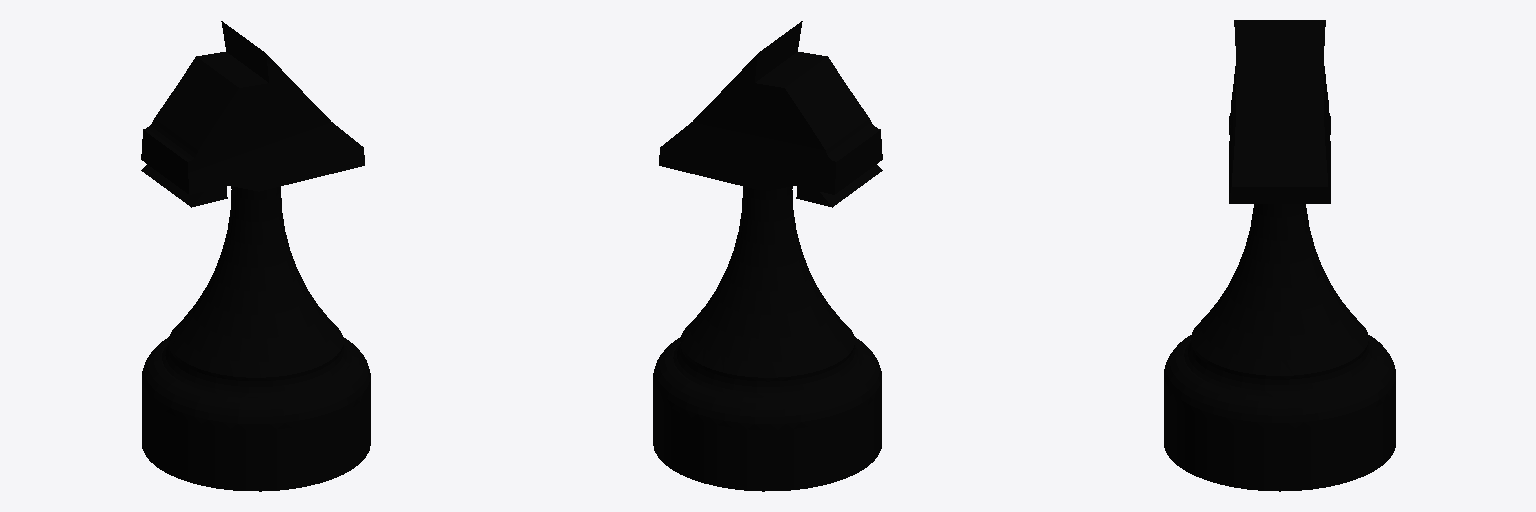
robot.urdf — knight:
<?xml version="1.0" ?>
<robot name="knight">

  <link name="knight__link_0">
    <inertial>
      <mass value="0.002"/>
      <origin rpy="0  0  0" xyz="0  0  0"/>
      <inertia ixx="0.145833" ixy="0" ixz="0" iyy="0.145833" iyz="0" izz="0.125"/>
    </inertial>
    
    <collision name="knight__collision">
      <origin rpy="1.570795  0  3.14159" xyz="0  0  0"/>
      <geometry>
        <mesh filename="package://chessRobot/models/pieces/knight/blackKnight.dae" scale="0.00393700787 0.00393700787 0.00393700787"/>
      </geometry>
    <mu1 value="1.0"/>
    <mu2 value="1.0"/>
    <kp  value="10000000.0" />
    <kd  value="1.0" />
    <minDepth>0.002</minDepth>
    <maxVel>0</maxVel>  
    <dynamics damping="0.7" friction="1000" />
    </collision>
    
    <visual name="knight__visual">
      <origin rpy="1.570795  0  3.14159" xyz="0  0  0"/>
      <geometry>
        <mesh filename="package://chessRobot/models/pieces/knight/blackKnight.dae" scale="0.00393700787 0.00393700787 0.00393700787"/>
      </geometry>
    </visual>
  </link>
</robot> 

--- Facts derived from the render (not from the file) ---
3 views of the same robot in one strip: view 1: azimuth 30°, elevation 25°; view 2: azimuth 150°, elevation 25°; view 3: azimuth 270°, elevation 25° (orthographic).
Model knight with 1 links and 0 joints (none), rooted at knight__link_0, posed all joints at 0.
Links seen in each view (by area): view 1: knight__link_0; view 2: knight__link_0; view 3: knight__link_0.
Link boxes in pixels (box(x1,y1,x2,y2)): knight__link_0: box(141, 21, 370, 491); knight__link_0: box(653, 21, 882, 491); knight__link_0: box(1164, 20, 1395, 491).
Bounding box of the posed robot: 0.033 × 0.033 × 0.065 m (x, y, z).
1 mesh visuals loaded from 1 distinct referenced files (1 Collada DAE).
